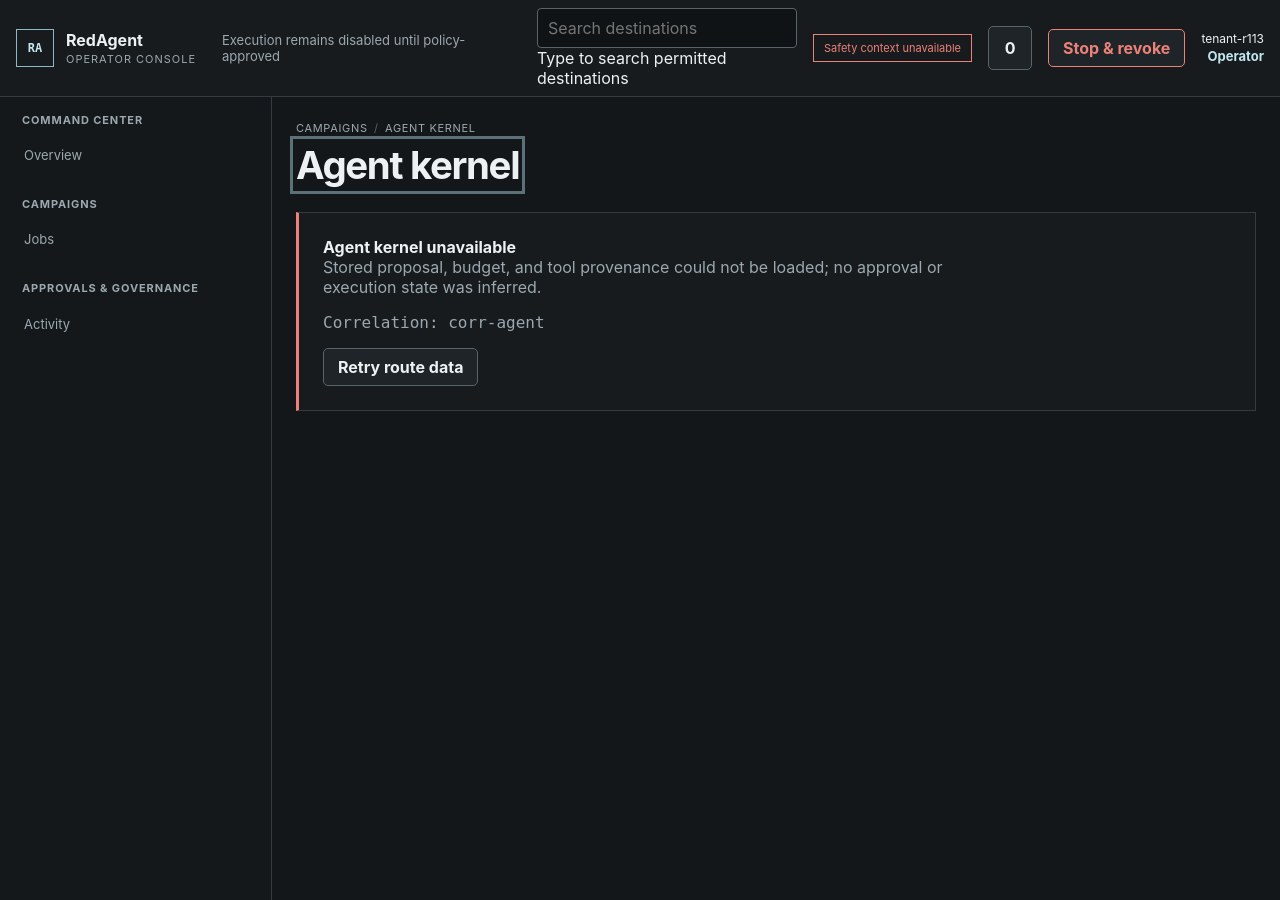
Scenario: projects a correlated agent outage and retries without inferring proposal state
The width and height of the screenshot is (1280, 900).
Check: the message "Agent kernel unavailable" is shown, box [296,212,1256,411]
Check: the text "Correlation: corr-agent" is shown, box [323,313,545,332]
Click the button "Retry route data" at (401, 367), box [323,348,478,386]
(page scrolled)
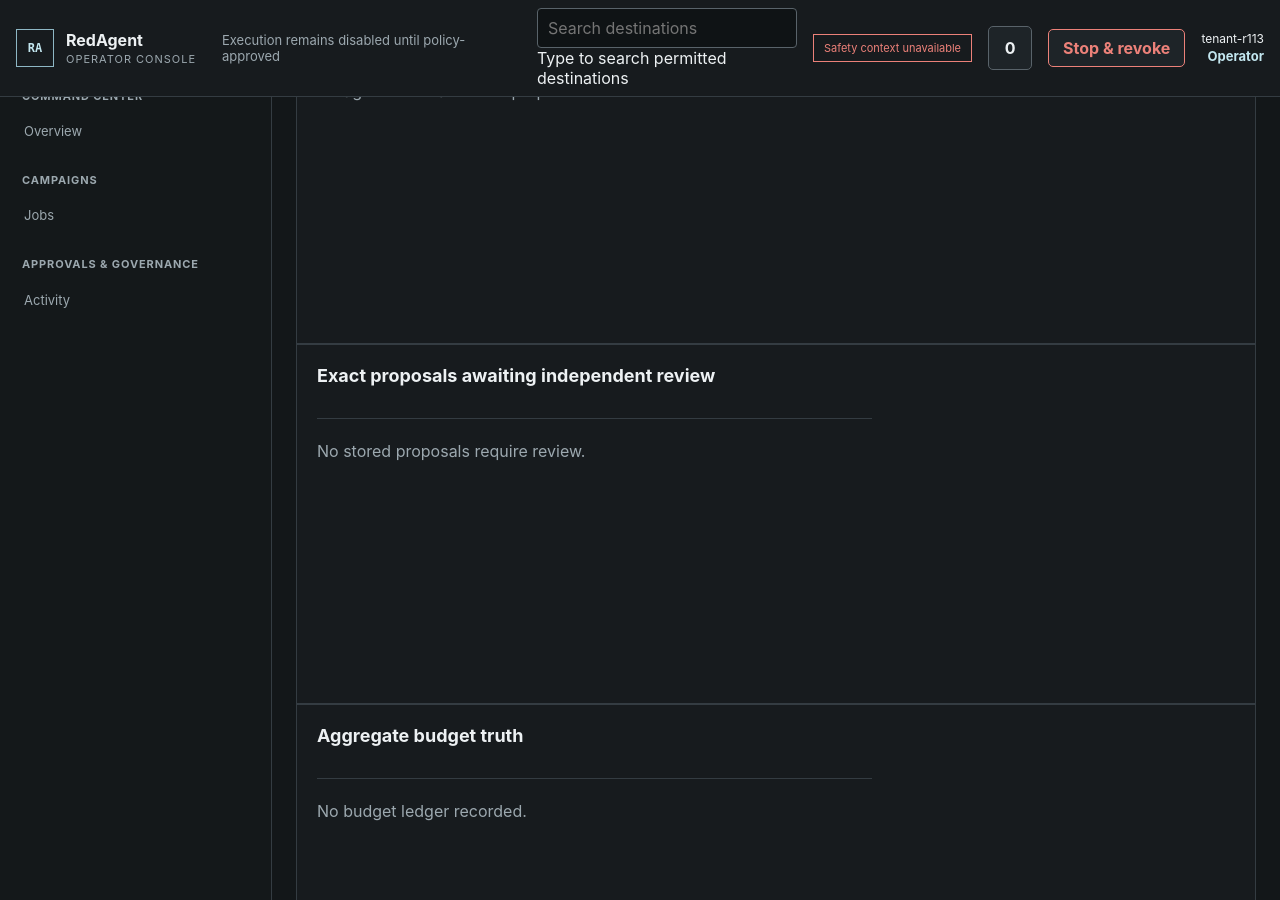
Check: the text "No stored proposals require review." is shown, box [317,418,872,483]
